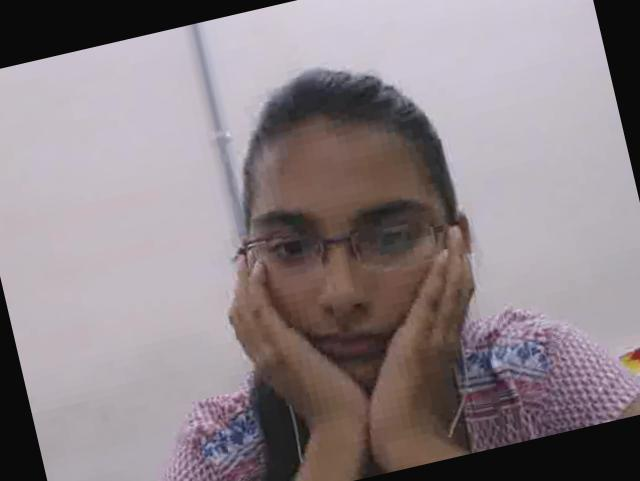bosan: (235, 120, 482, 410)
